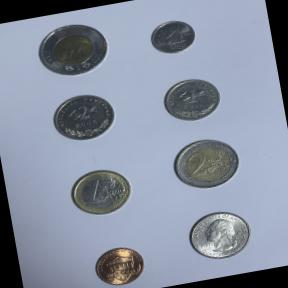coin: (30, 16, 114, 84), (167, 132, 246, 197), (180, 203, 258, 268), (44, 86, 122, 149), (63, 162, 138, 222), (89, 240, 151, 288), (145, 15, 201, 60)
